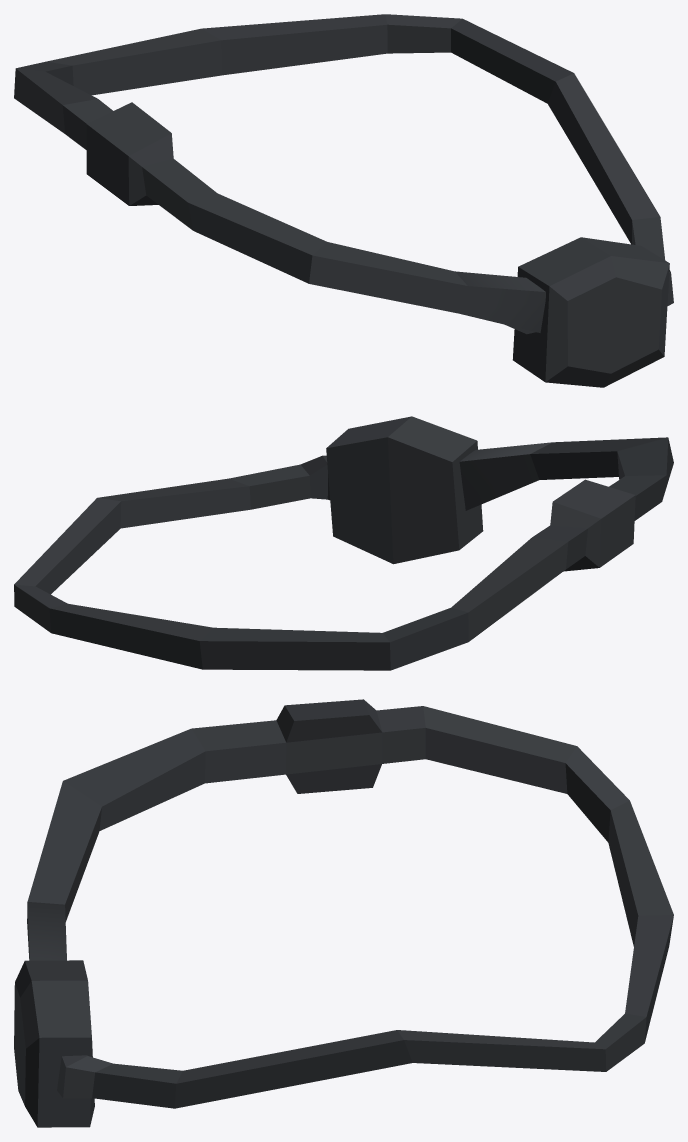
Rendered from SM_Chr_Attach_Eyepatch_01.fbx.
3 views of the same model, one above another, from view 1: azimuth 30°, elevation 25°; view 2: azimuth 150°, elevation 25°; view 3: azimuth 270°, elevation 25° (orthographic). The views are drawn at different scales.
Visible parts, largest first — view 1: SM_Chr_Attach_Eyepatch_01; view 2: SM_Chr_Attach_Eyepatch_01; view 3: SM_Chr_Attach_Eyepatch_01.
Boxes of the visible parts, x1=… form: SM_Chr_Attach_Eyepatch_01: x1=14, y1=14, x2=673, y2=387; SM_Chr_Attach_Eyepatch_01: x1=14, y1=416, x2=673, y2=670; SM_Chr_Attach_Eyepatch_01: x1=14, y1=699, x2=673, y2=1127.
Size of the model in its own units: 25.27 by 11.31 by 28.
